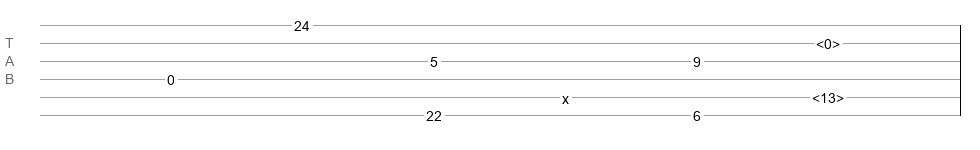0: (167, 72, 175, 82)
22: (426, 108, 442, 118)
24: (294, 18, 310, 28)
5: (430, 54, 438, 64)
6: (693, 108, 701, 118)
9: (693, 54, 701, 64)
harmonic: (812, 90, 844, 100), (816, 36, 840, 46)
x: (562, 91, 569, 99)
